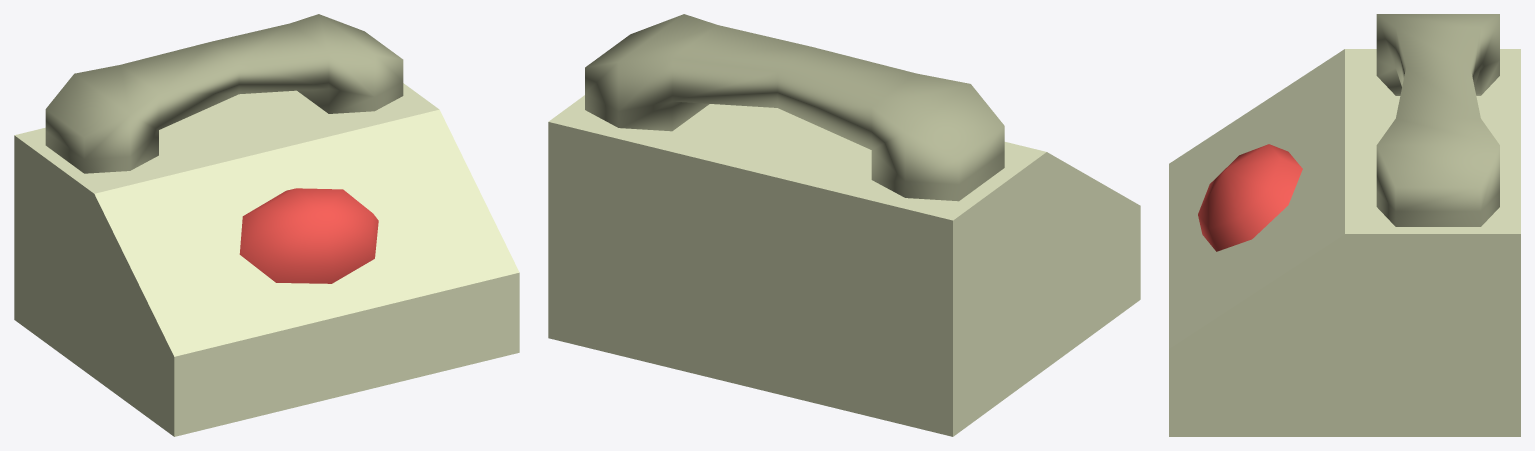
File: PhoneRetro.fbx
The picture shows the model from 3 angles, left to right: view 1: azimuth 30°, elevation 25°; view 2: azimuth 150°, elevation 25°; view 3: azimuth 270°, elevation 25°; orthographic projection. The views are drawn at different scales.
Visible parts, largest first — view 1: PhoneRetro, LampRed; view 2: PhoneRetro; view 3: PhoneRetro, LampRed.
Boxes of the visible parts, x1=… form: PhoneRetro: x1=14, y1=14, x2=519, y2=436; LampRed: x1=239, y1=188, x2=378, y2=283; PhoneRetro: x1=548, y1=14, x2=1140, y2=436; PhoneRetro: x1=1169, y1=14, x2=1520, y2=436; LampRed: x1=1198, y1=144, x2=1302, y2=251.
Size of the model in its own units: 39.93 by 27.91 by 32.05.
